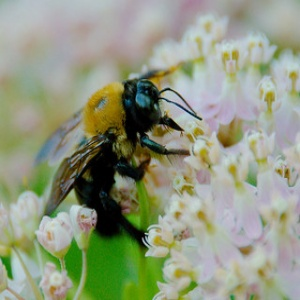bee: (35, 77, 205, 256)
